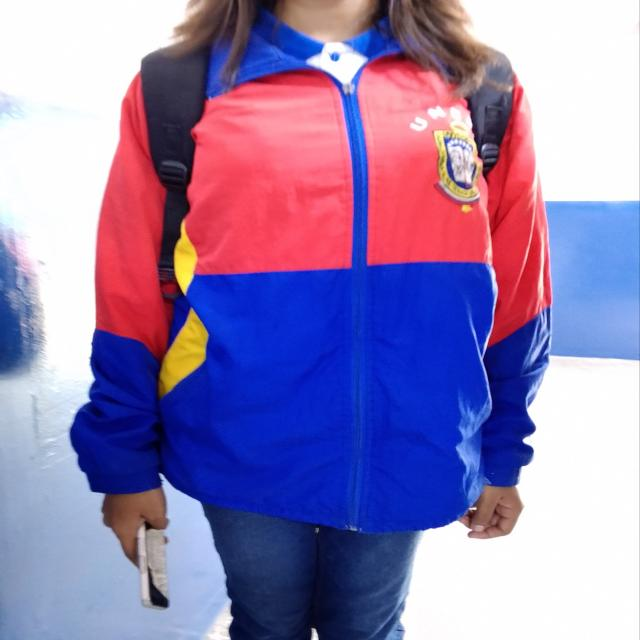chaqueta_unefa: (67, 14, 554, 538)
